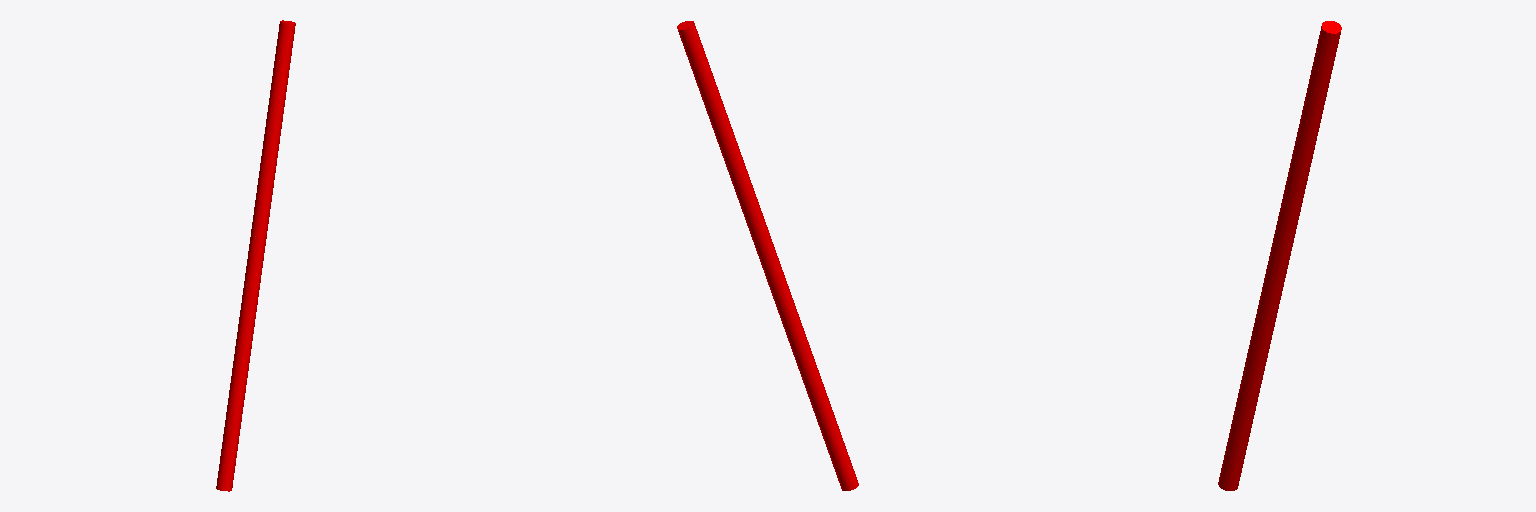
The robot description file, URDF, robot "tree_30.urdf":
<?xml version='1.0' encoding='utf-8'?>
<robot name="tree_30.urdf">
  <link name="branch_0">
    <inertial>
      <origin xyz="0.0 0.0 0.0" rpy="0.0 -0.0 0.0" />
      <mass value="1.0" />
      <inertia ixx="1.0" ixy="0.0" ixz="0.0" iyy="1.0" iyz="0.0" izz="1.0" />
    </inertial>
    <visual name="branch_0_visual">
      <geometry>
        <cylinder radius="0.03849737681910311" length="2.2785007157391446" />
      </geometry>
      <material name="semantic_material" />
      <origin xyz="0.2883420606981745 0.19476238994747105 1.0848123549260618" rpy="0.0 0.3103853528629146 0.594062903684059" />
    </visual>
    <collision name="branch_0_collision">
      <geometry>
        <cylinder radius="0.03849737681910311" length="2.2785007157391446" />
      </geometry>
      <origin xyz="0.2883420606981745 0.19476238994747105 1.0848123549260618" rpy="0.0 0.3103853528629146 0.594062903684059" />
    </collision>
  </link>
  <material name="semantic_material">
    <color rgba="1. 0. 0. 1." />
  </material>
</robot>

--- Facts derived from the render (not from the file) ---
3 views of the same robot in one strip: view 1: azimuth 30°, elevation 25°; view 2: azimuth 150°, elevation 25°; view 3: azimuth 270°, elevation 25° (orthographic).
Model tree_30.urdf with 1 links and 0 joints (none), rooted at branch_0, posed every joint at zero.
Visible links, largest first — view 1: branch_0; view 2: branch_0; view 3: branch_0.
Link boxes in pixels (x1,y1,x2,y2): branch_0: (216,20,295,491); branch_0: (677,21,858,490); branch_0: (1218,21,1341,490).
Size in the robot's own frame: 0.6511 by 0.4654 by 2.19 metres.
Geometry: primitives only (box / cylinder / sphere), no mesh files.
